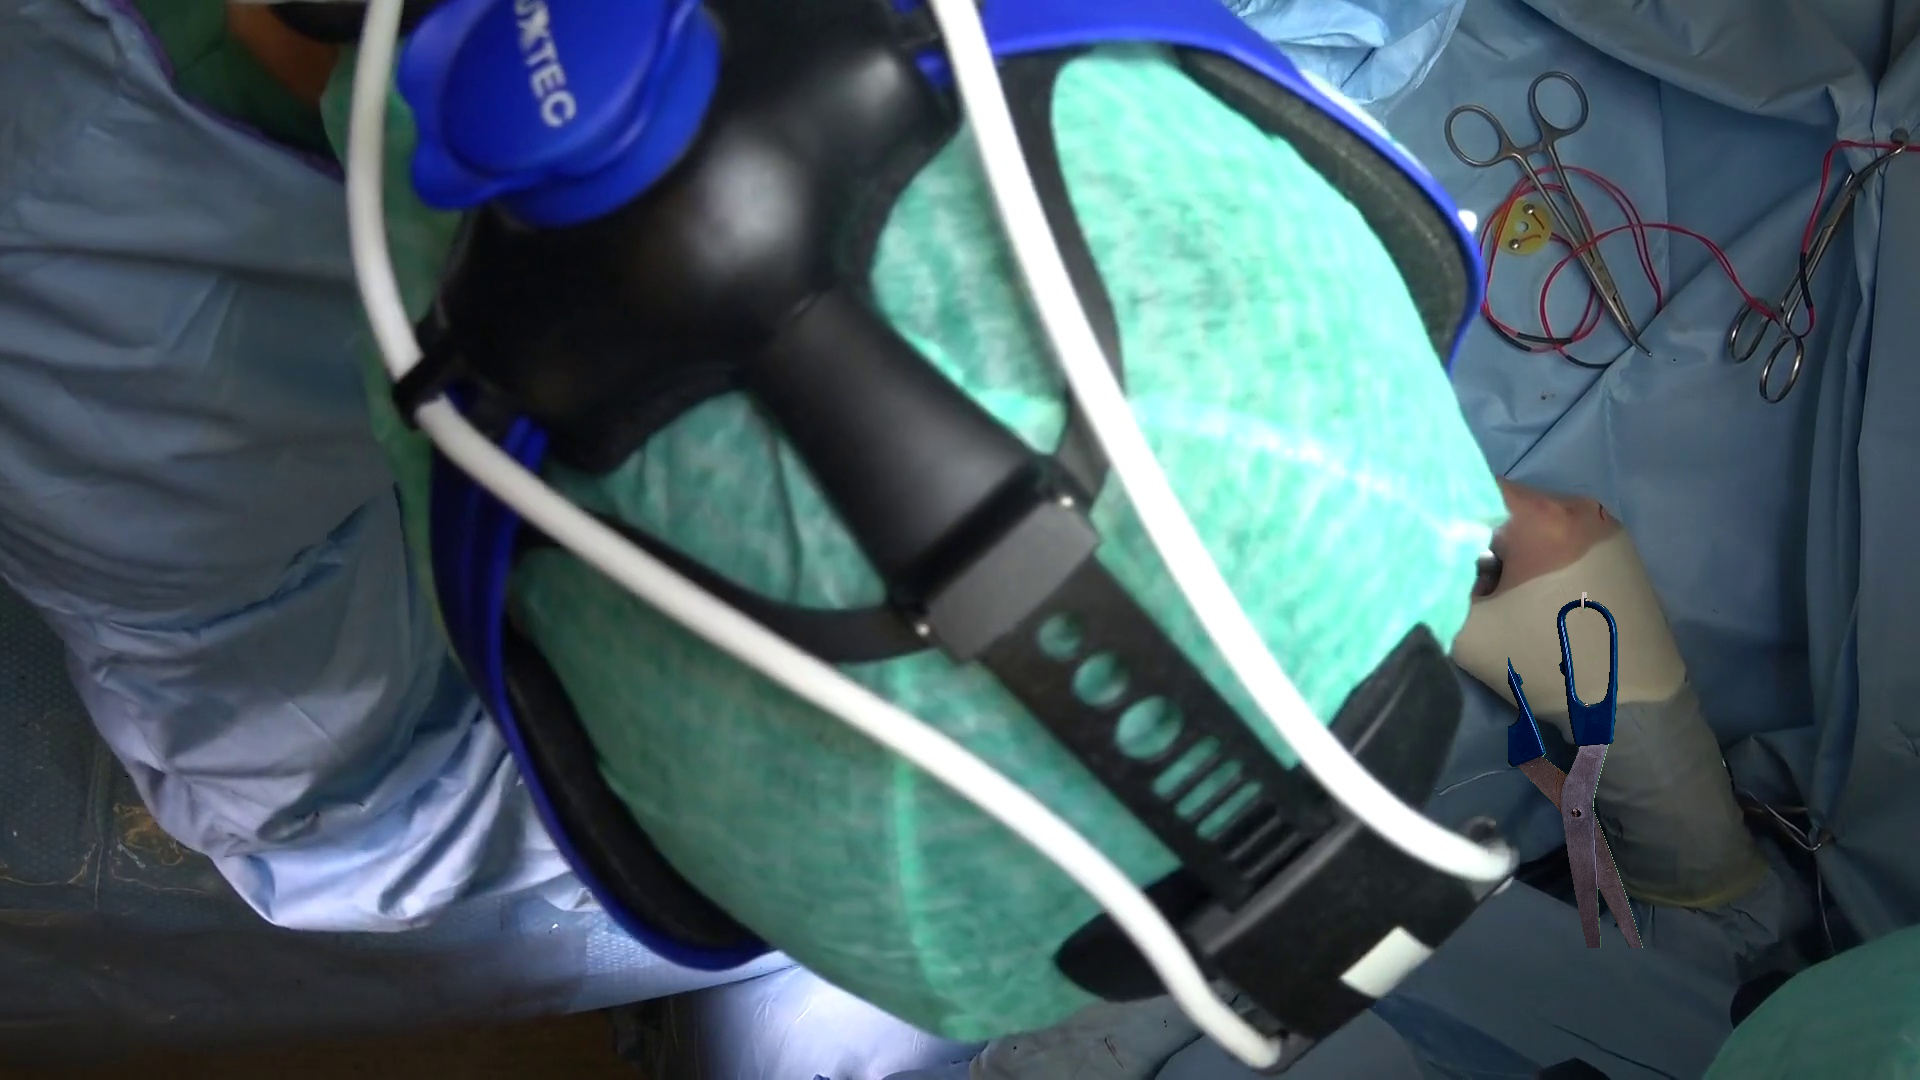scissors: (1509, 592, 1642, 947)
